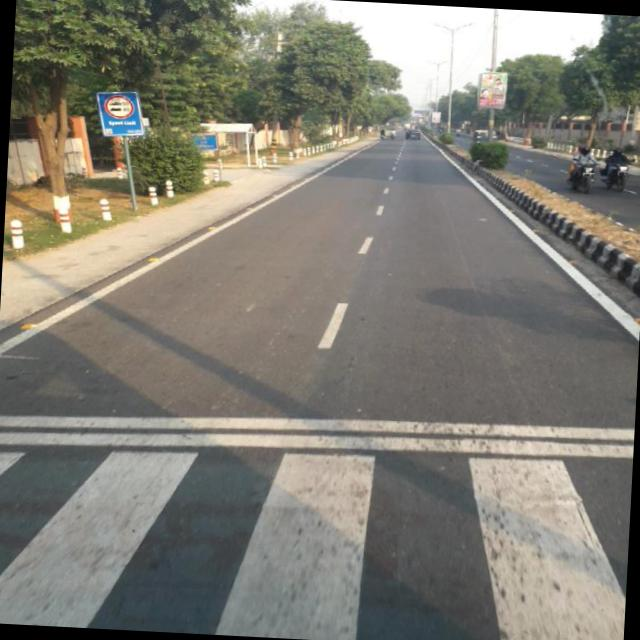pothole: (424, 202, 538, 416)
